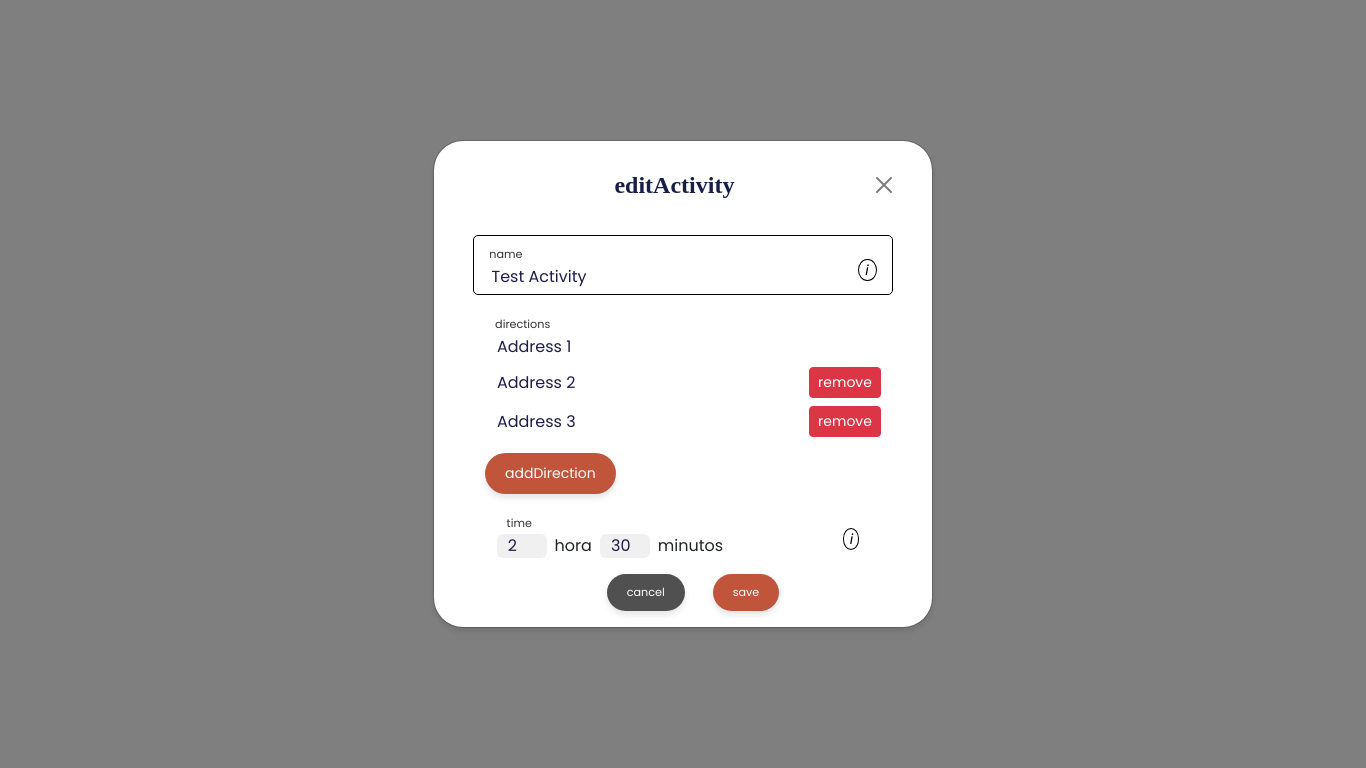
EditActivities Component › adds a new direction
Click the button "addDirection" at (550, 474), box [485, 453, 616, 494]
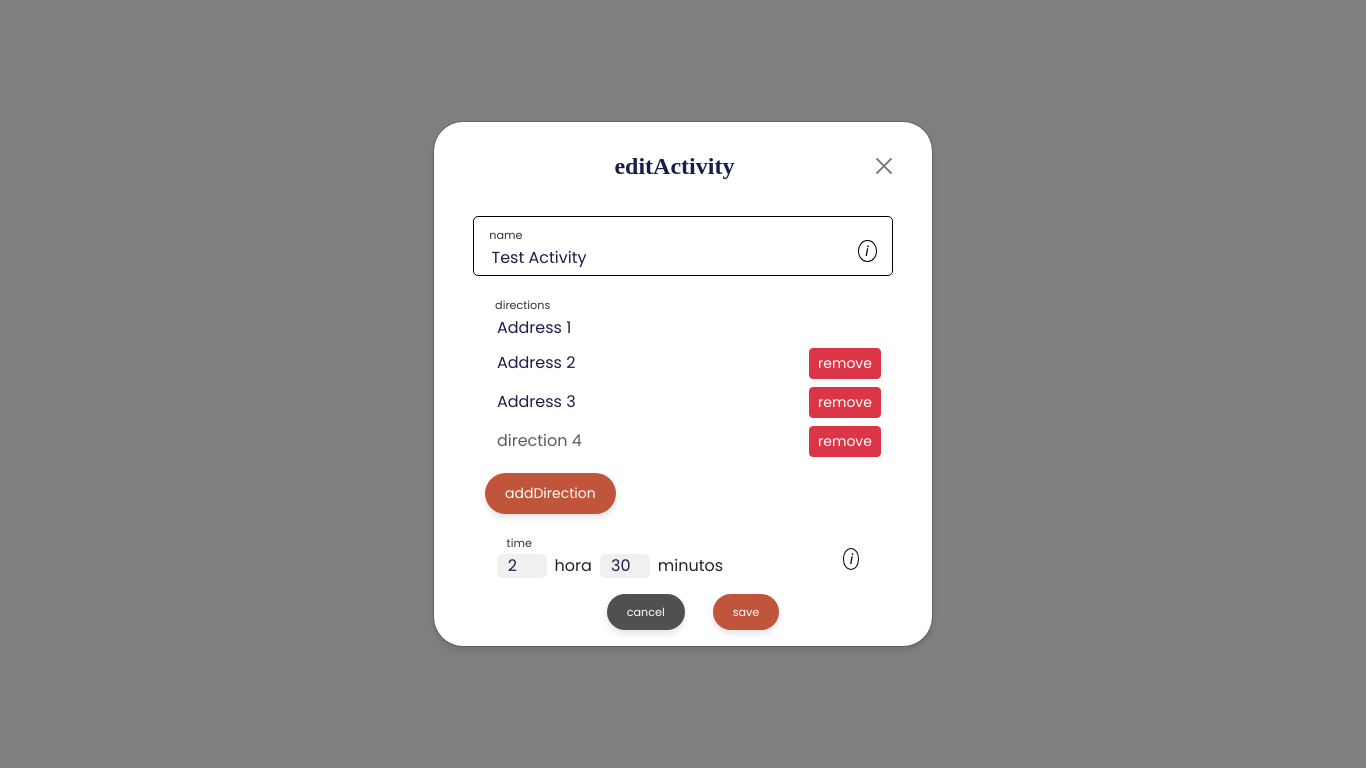
Result: the number of fields with placeholder "direction 1" is 4 at [485, 316, 881, 340]; [485, 351, 801, 375]; [485, 390, 801, 414]; [485, 429, 801, 453]
